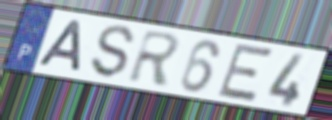4: (265, 51, 308, 110)
6: (178, 37, 224, 94)
A: (36, 18, 86, 74)
E: (214, 41, 276, 104)
R: (125, 28, 185, 88)
S: (89, 24, 137, 81)
